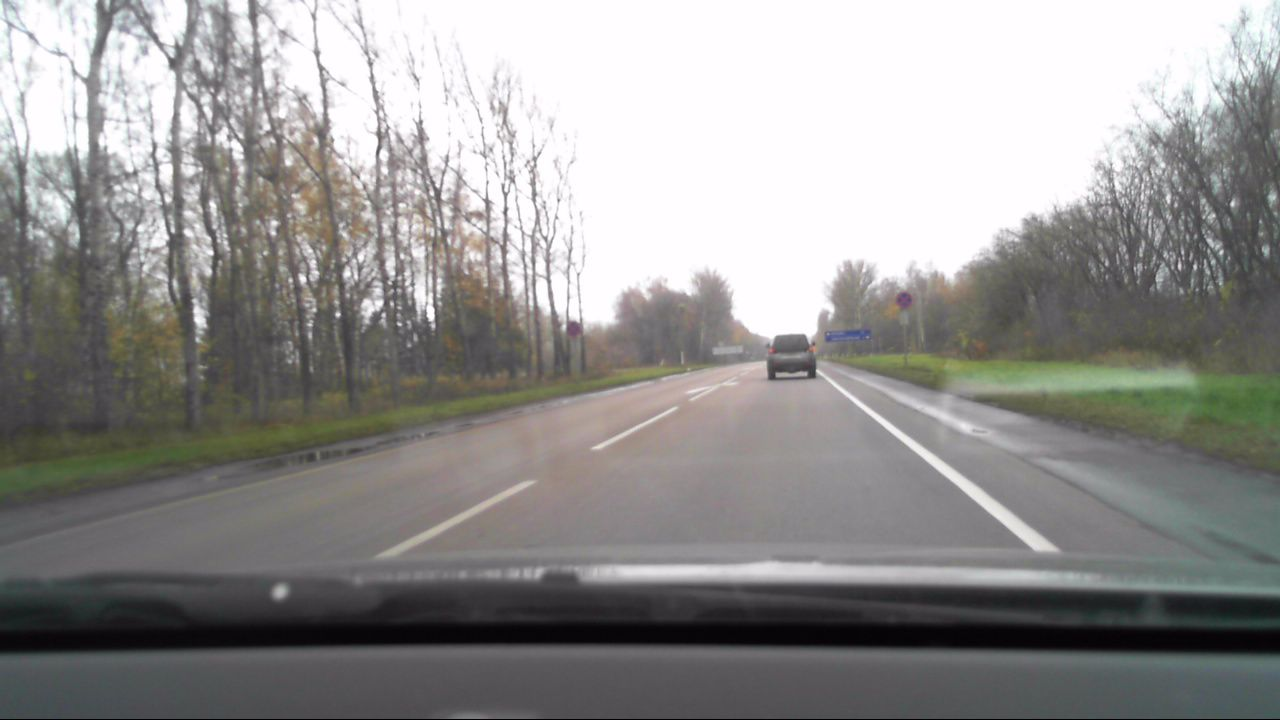No Parking: (894, 288, 914, 309)
